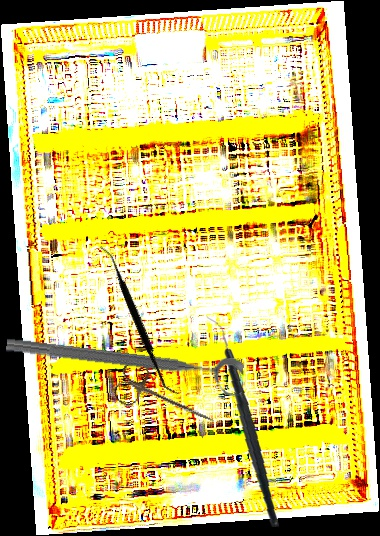Chopper: (188, 315, 297, 528)
Fixation Ring: (3, 330, 245, 400)
Iris Scissors: (110, 357, 224, 440)
Spatula Surgical: (54, 244, 224, 397)
